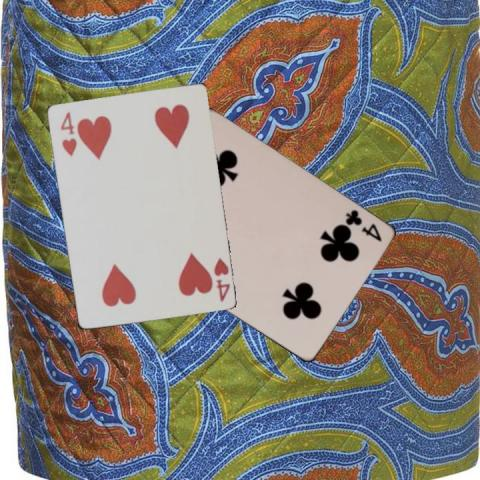4c: (341, 207, 383, 243)
4h: (210, 254, 231, 303), (57, 109, 77, 158)
